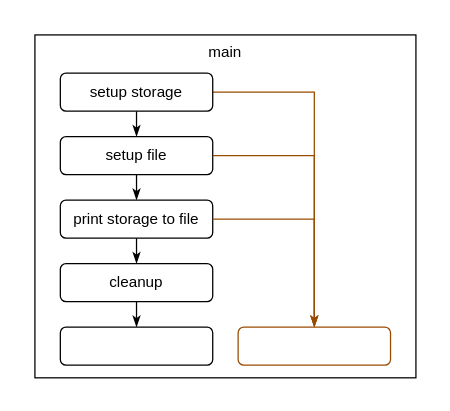
This 450x411 diagram has some shape labels left out. The shapes that lost their labels are listed below. From the top down, each one's centre as x and y in pixels, then its label:
the point at 136,345: EXIT 0
the point at 314,345: EXIT >0
